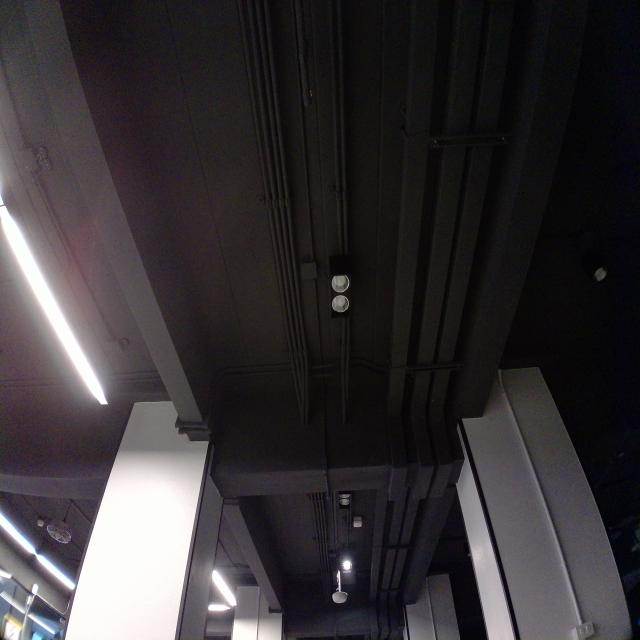lamp1_off: (323, 257, 360, 329)
